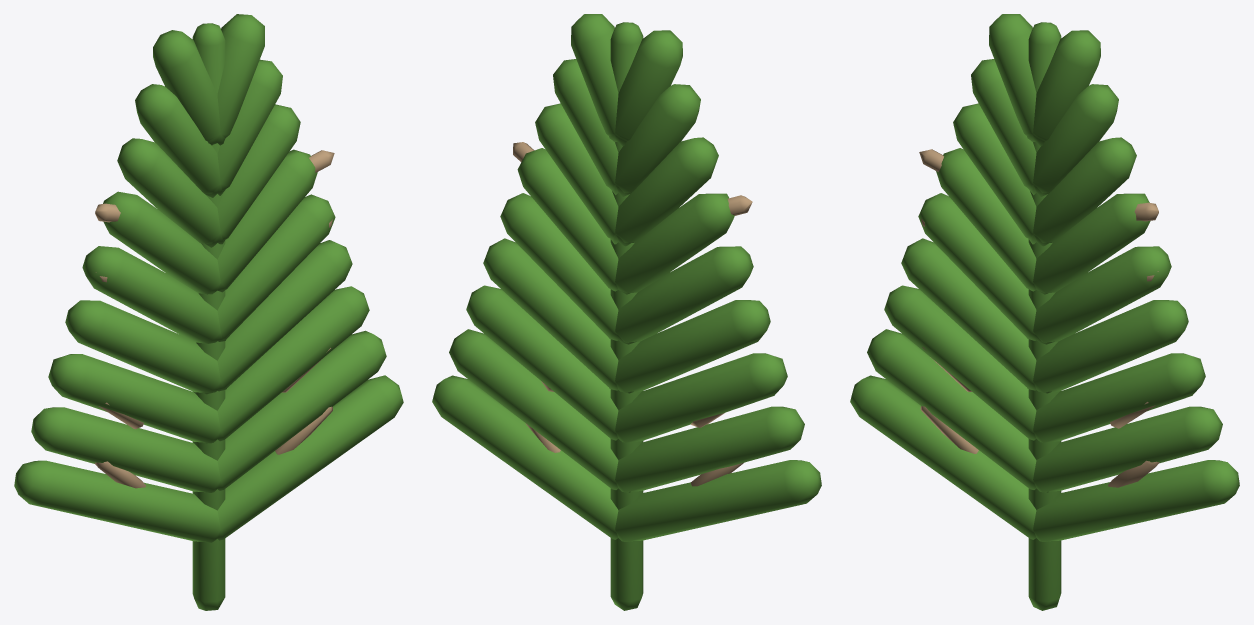
Rendered from org_charnia.glb.
The picture shows the model from 3 angles, left to right: view 1: azimuth 30°, elevation 25°; view 2: azimuth 150°, elevation 25°; view 3: azimuth 330°, elevation 25°; orthographic projection.
Parts seen in each view (by area): view 1: Foliage; view 2: Foliage; view 3: Foliage.
Part boxes in pixels (<box>): Foliage: <box>14,14,403,610</box>; Foliage: <box>432,14,821,610</box>; Foliage: <box>850,14,1239,610</box>.
Bounding box in the file's own units: 0.6114 × 0.9 × 0.0663.
